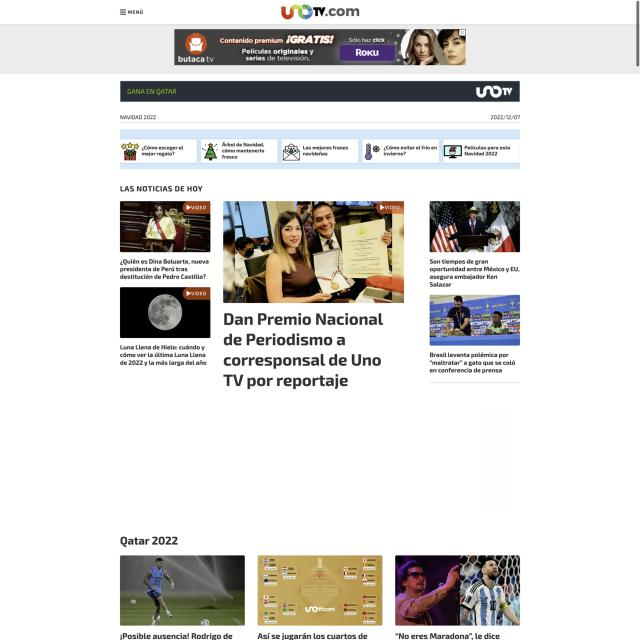ImageView: (175, 30, 466, 66)
bag: (1, 1, 636, 23)
breadcrumbs: (118, 534, 182, 550)
copy: (223, 199, 404, 304), (119, 554, 246, 628), (258, 554, 382, 626), (395, 555, 520, 626), (120, 200, 212, 252), (430, 200, 520, 253), (120, 286, 210, 338), (430, 294, 520, 346)
date picker: (277, 2, 364, 22)
decoration: (118, 6, 145, 19)
image: (223, 311, 390, 393)
